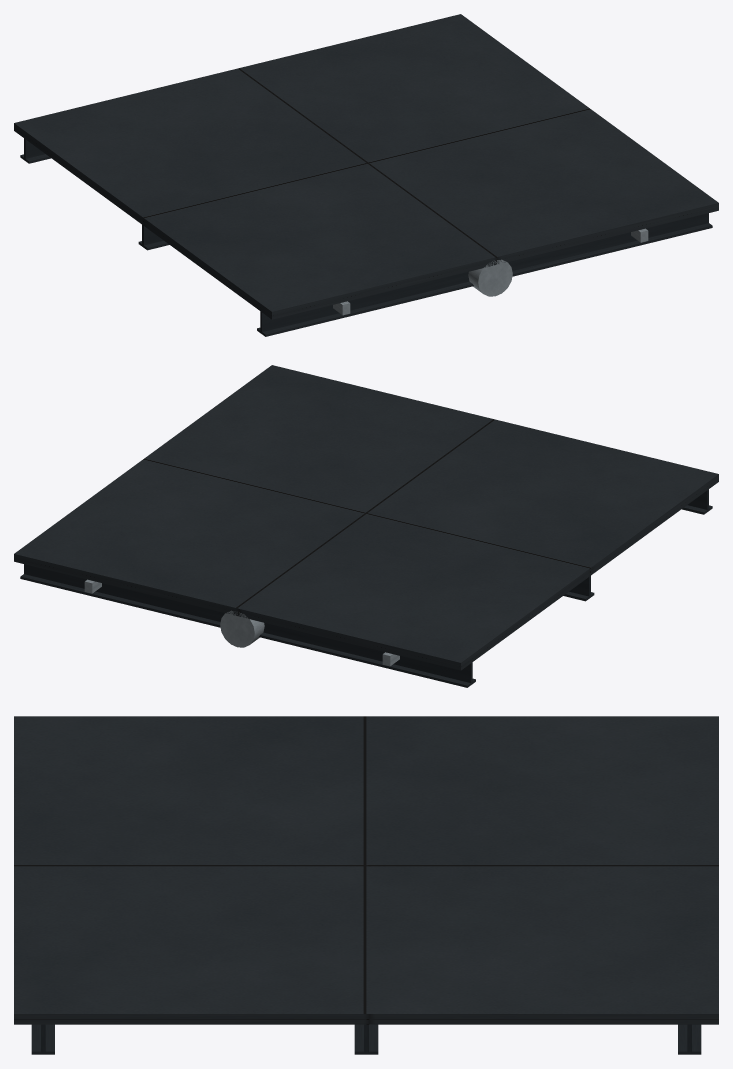
The model's file is ceiling_module.glb.
The picture shows the model from 3 angles, top to bottom: view 1: azimuth 30°, elevation 25°; view 2: azimuth 150°, elevation 25°; view 3: azimuth 270°, elevation 25°; orthographic projection. The views are drawn at different scales.
Visible parts, largest first — view 1: ceiling_grid; view 2: ceiling_grid; view 3: ceiling_grid.
Part boxes in pixels (box(x1,y1,x2,y2)): ceiling_grid: box(14, 14, 718, 336); ceiling_grid: box(14, 365, 718, 687); ceiling_grid: box(14, 716, 718, 1054).
Size of what is drawn, in the model's own units: 3.6 by 0.3 by 3.6.
4 materials, 4 textured.
